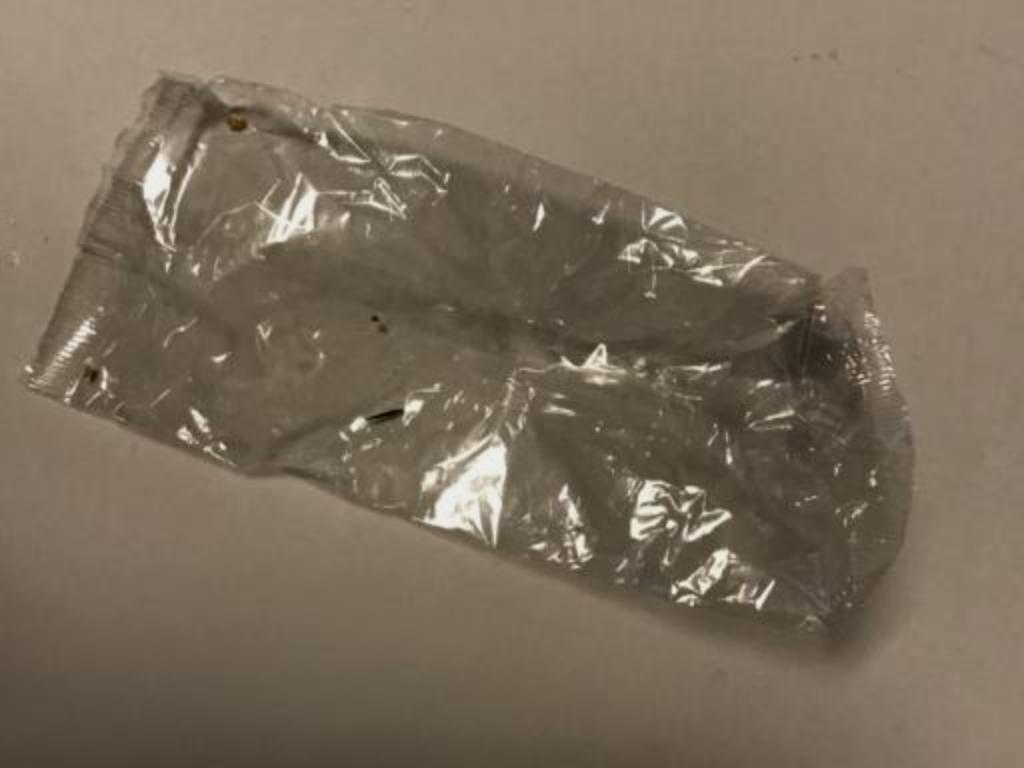garbage: (21, 81, 959, 715)
